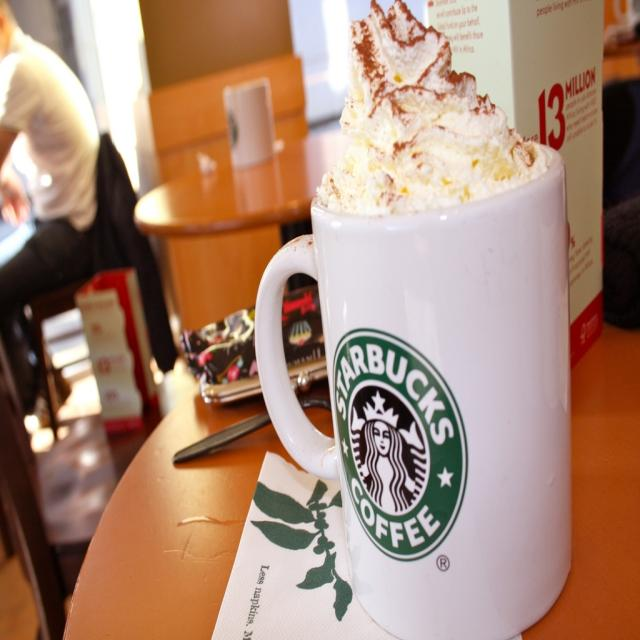starbucks: (333, 330, 469, 562)
